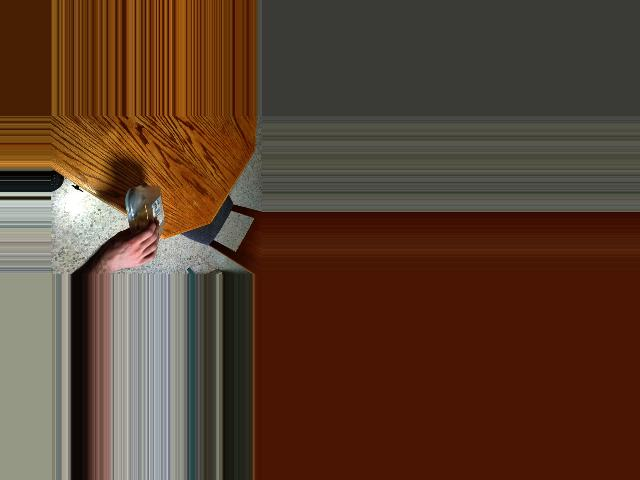cheese: (119, 193, 168, 252)
